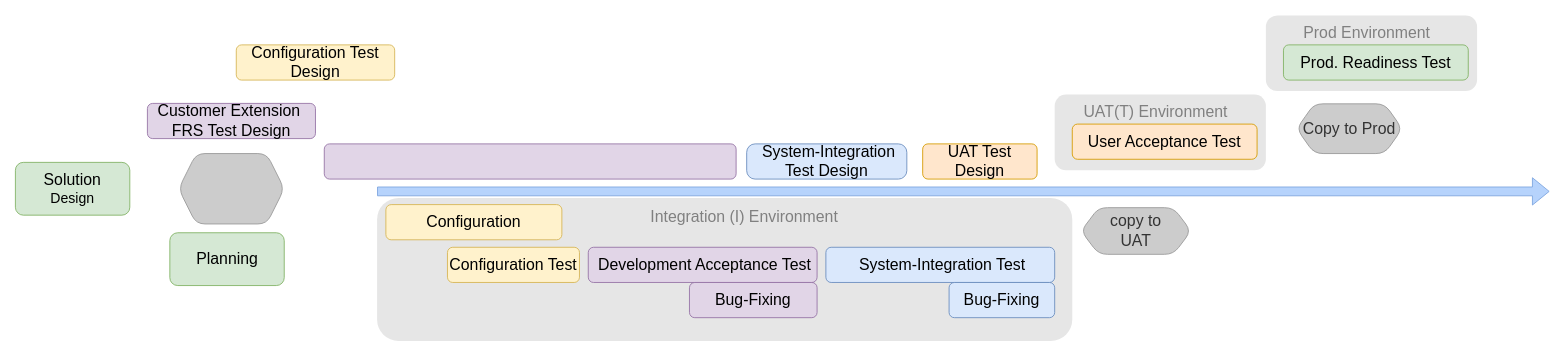
Some shapes in this 1565 by 356 pixel diagram are drawn without their labels. Each missing label, with the centre of its shape:
"Customer Extension Development" goes at (x=529, y=161).
"SIT env Request" goes at (x=231, y=188).
